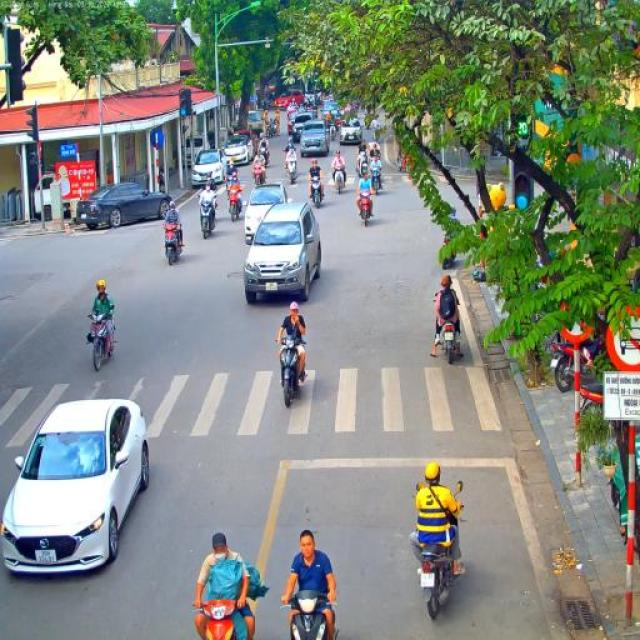car: (0, 398, 151, 578), (242, 201, 324, 304), (76, 182, 174, 229), (242, 183, 294, 246), (192, 149, 226, 189), (221, 130, 254, 166), (300, 120, 330, 158), (338, 116, 364, 146), (291, 111, 314, 141), (320, 100, 340, 124), (287, 106, 299, 134)
motorcycle: (412, 479, 467, 619), (279, 587, 339, 640), (549, 332, 593, 393), (192, 595, 249, 640), (276, 333, 308, 408), (85, 310, 117, 372), (432, 307, 462, 365), (162, 220, 183, 266), (197, 200, 218, 241), (226, 182, 243, 222), (308, 176, 326, 210), (358, 190, 374, 228), (441, 235, 458, 270), (332, 166, 347, 196), (370, 164, 384, 196), (253, 162, 268, 188), (284, 158, 298, 184), (357, 148, 369, 178), (256, 146, 270, 166), (225, 170, 236, 191), (327, 121, 338, 141), (370, 127, 381, 142), (286, 146, 298, 159), (269, 120, 276, 140), (311, 110, 319, 120)
truck: (32, 172, 76, 222), (235, 110, 265, 146), (182, 136, 204, 170), (274, 90, 305, 110)
